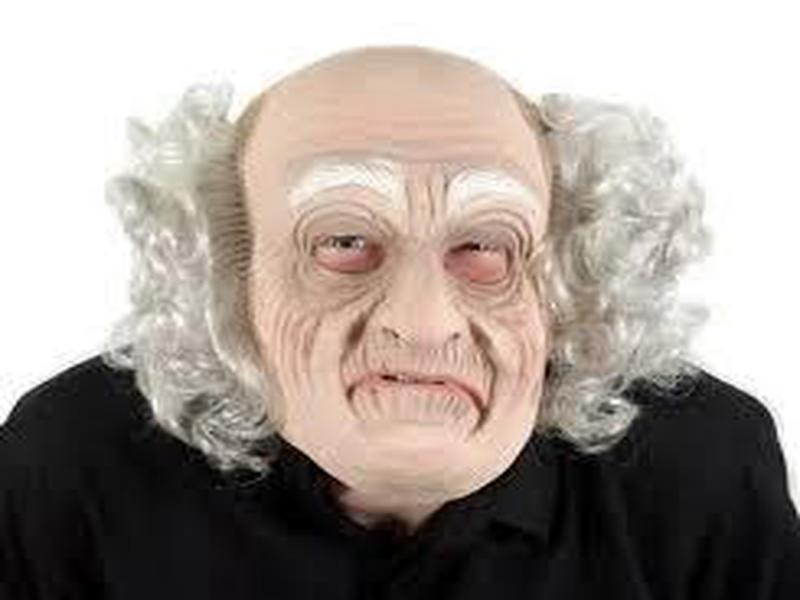without_mask: (242, 108, 548, 499)
